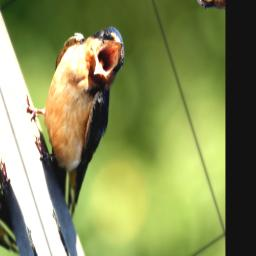Swallow: (13, 4, 161, 227)
